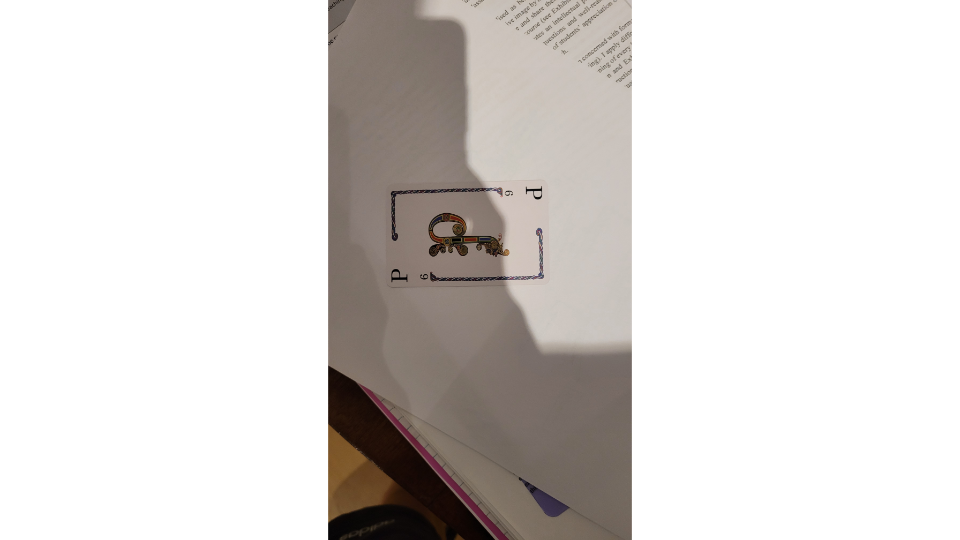P: (382, 177, 557, 290)
